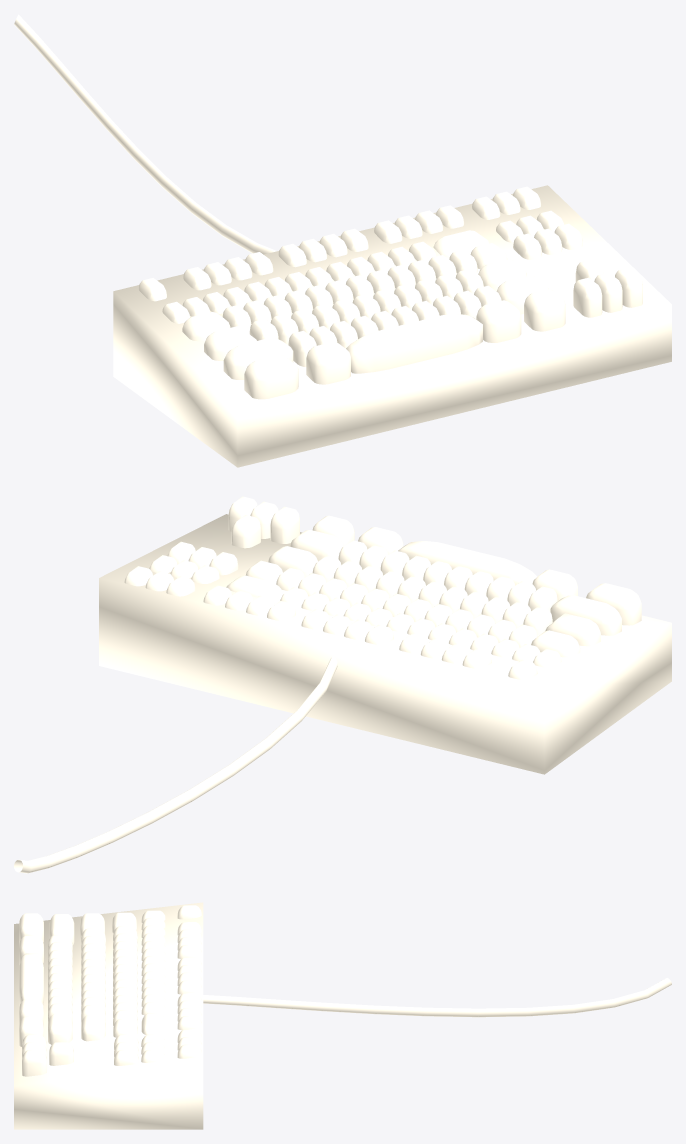
File: Keyboard.fbx
The picture shows the model from 3 angles, top to bottom: view 1: azimuth 30°, elevation 25°; view 2: azimuth 150°, elevation 25°; view 3: azimuth 270°, elevation 25°; orthographic projection. The views are drawn at different scales.
Parts seen in each view (by area): view 1: Keyboard; view 2: Keyboard; view 3: Keyboard.
Part boxes in pixels (x1=…): Keyboard: x1=14, y1=14, x2=671, y2=467; Keyboard: x1=14, y1=496, x2=671, y2=873; Keyboard: x1=14, y1=902, x2=671, y2=1129.
Bounding box in the file's own units: 32 × 6.62 × 55.
